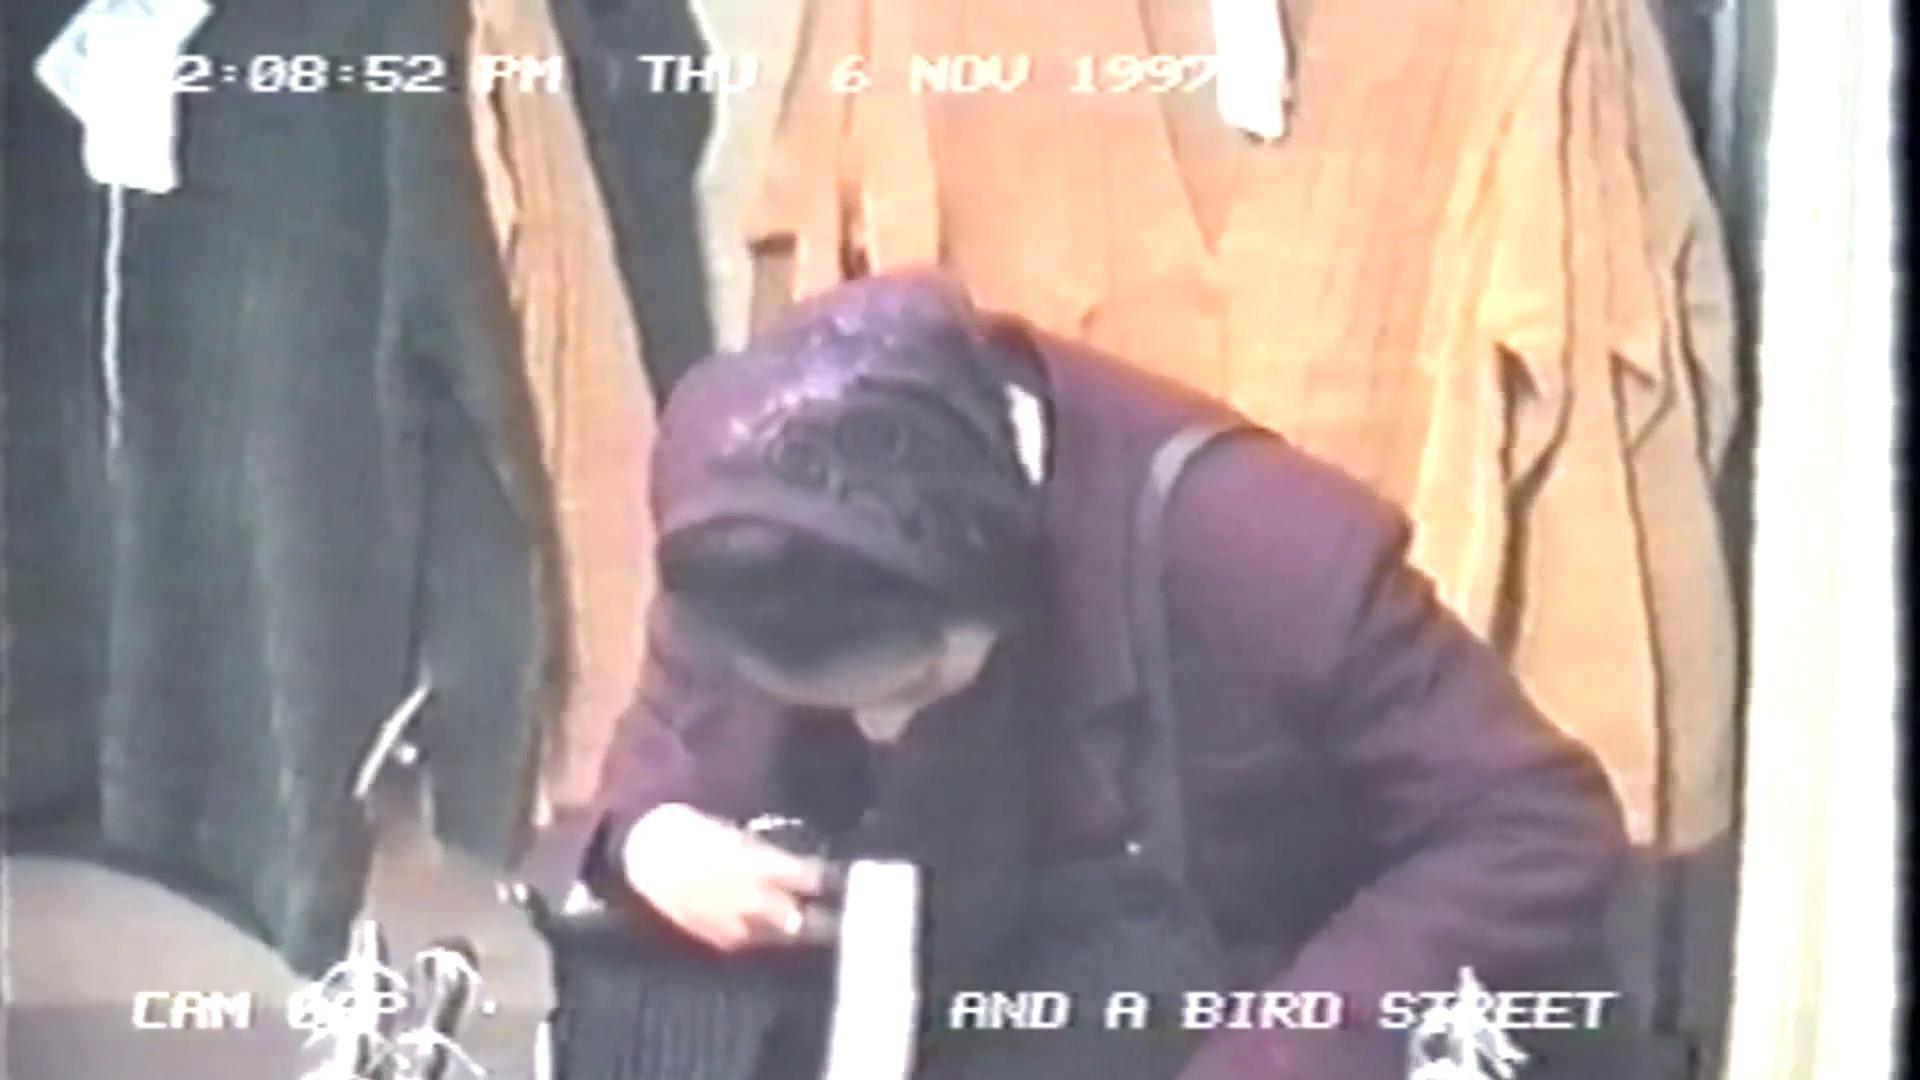Product: (541, 855, 924, 1080)
Product-Picked: (460, 0, 1552, 1080)
